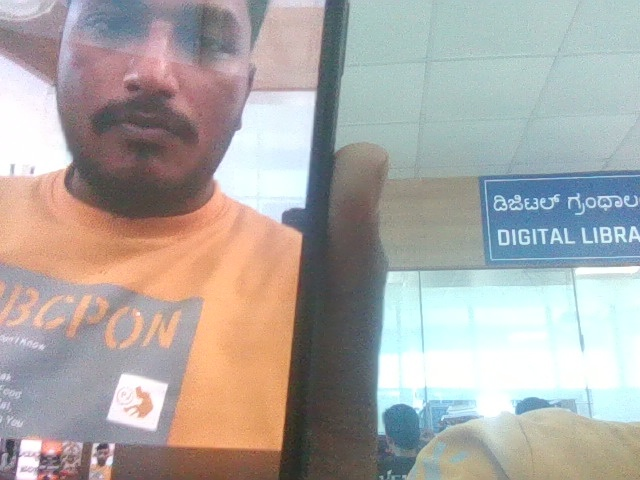fake: (31, 0, 283, 357)
